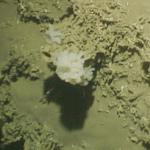alive: (5, 3, 147, 147)
